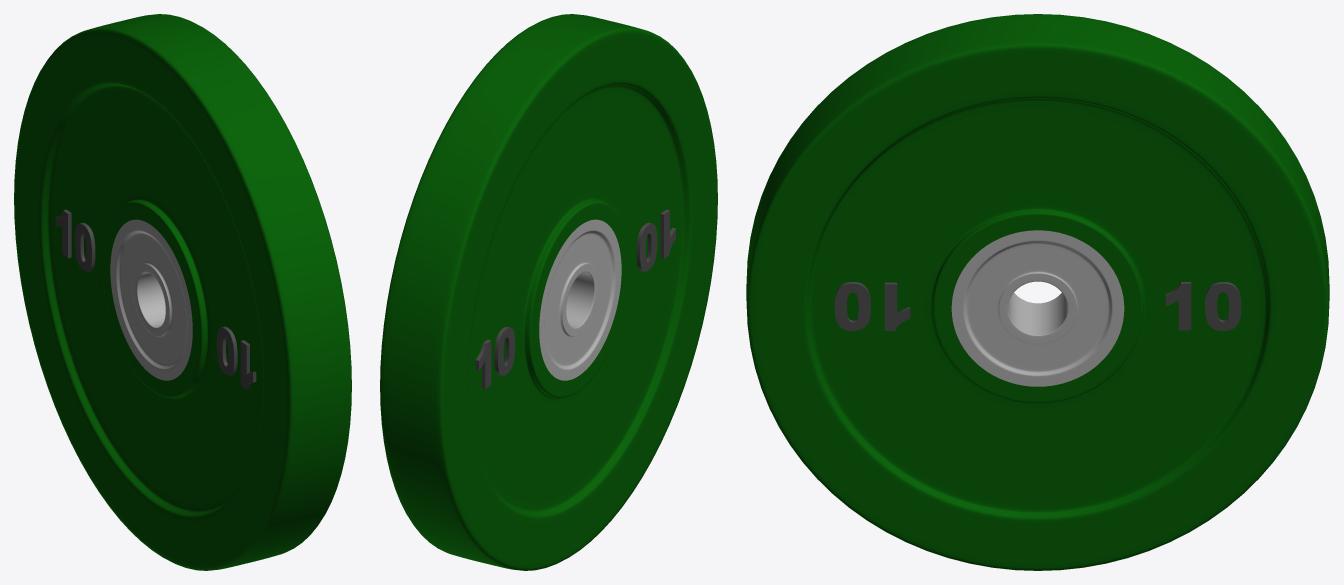
The model's file is GymPlate01.fbx.
3 renders of one model, left to right at view 1: azimuth 30°, elevation 25°; view 2: azimuth 150°, elevation 25°; view 3: azimuth 270°, elevation 25°, orthographic. The views are drawn at different scales.
Parts seen in each view (by area): view 1: SM_GymPlate01, SM_GymPlate01_Text; view 2: SM_GymPlate01, SM_GymPlate01_Text; view 3: SM_GymPlate01, SM_GymPlate01_Text.
Boxes of the visible parts, x1=… form: SM_GymPlate01: x1=14, y1=14, x2=351, y2=570; SM_GymPlate01_Text: x1=56, y1=209, x2=256, y2=388; SM_GymPlate01: x1=380, y1=14, x2=717, y2=570; SM_GymPlate01_Text: x1=475, y1=209, x2=675, y2=388; SM_GymPlate01: x1=746, y1=14, x2=1329, y2=570; SM_GymPlate01_Text: x1=834, y1=282, x2=1241, y2=330.
Size of the model in its own units: 6.02 by 45.69 by 45.69.
